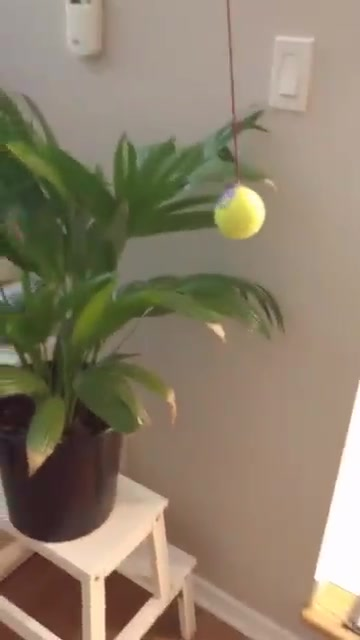tennis_ball: (210, 182, 268, 242)
